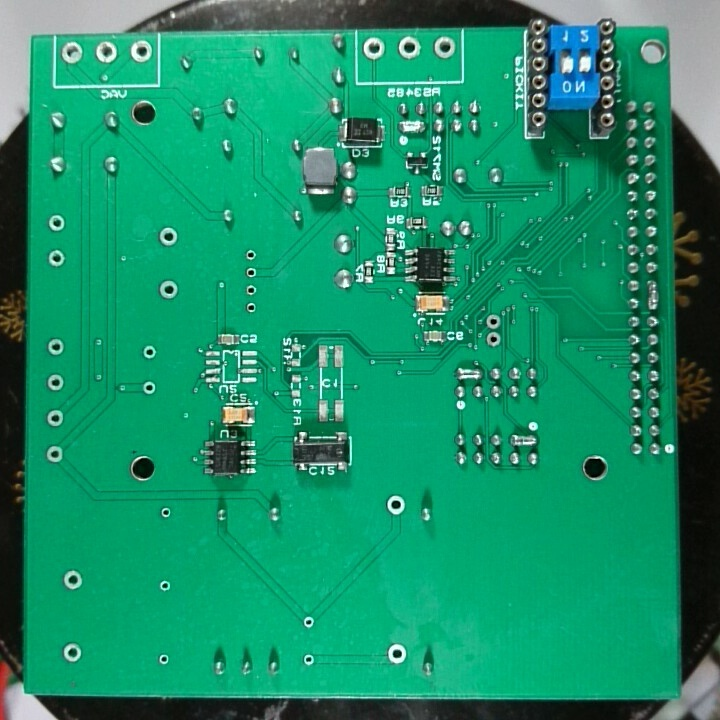F: (360, 35, 388, 63), (395, 35, 424, 61), (384, 642, 411, 669), (60, 39, 86, 67), (94, 39, 119, 67), (155, 278, 182, 303), (431, 34, 456, 60), (59, 567, 85, 592), (157, 224, 181, 250), (384, 492, 408, 518), (129, 39, 154, 63), (60, 640, 84, 665), (45, 247, 67, 270), (45, 406, 66, 430), (45, 372, 67, 394), (43, 444, 65, 465), (46, 212, 66, 235), (45, 337, 66, 358), (483, 329, 504, 350), (241, 282, 262, 299), (240, 299, 261, 316), (140, 378, 157, 398), (140, 343, 158, 361), (242, 264, 260, 282), (485, 312, 503, 330), (157, 504, 174, 523), (299, 651, 317, 668), (157, 578, 174, 595), (243, 245, 259, 263), (156, 652, 172, 669), (300, 615, 317, 630)
P: (643, 276, 662, 312), (396, 117, 429, 137), (507, 432, 540, 449), (454, 366, 485, 383)
